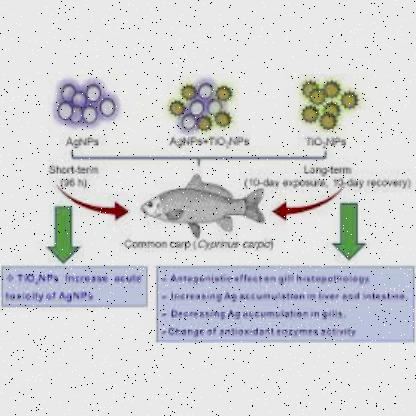ikan-mas: (132, 170, 268, 233)
